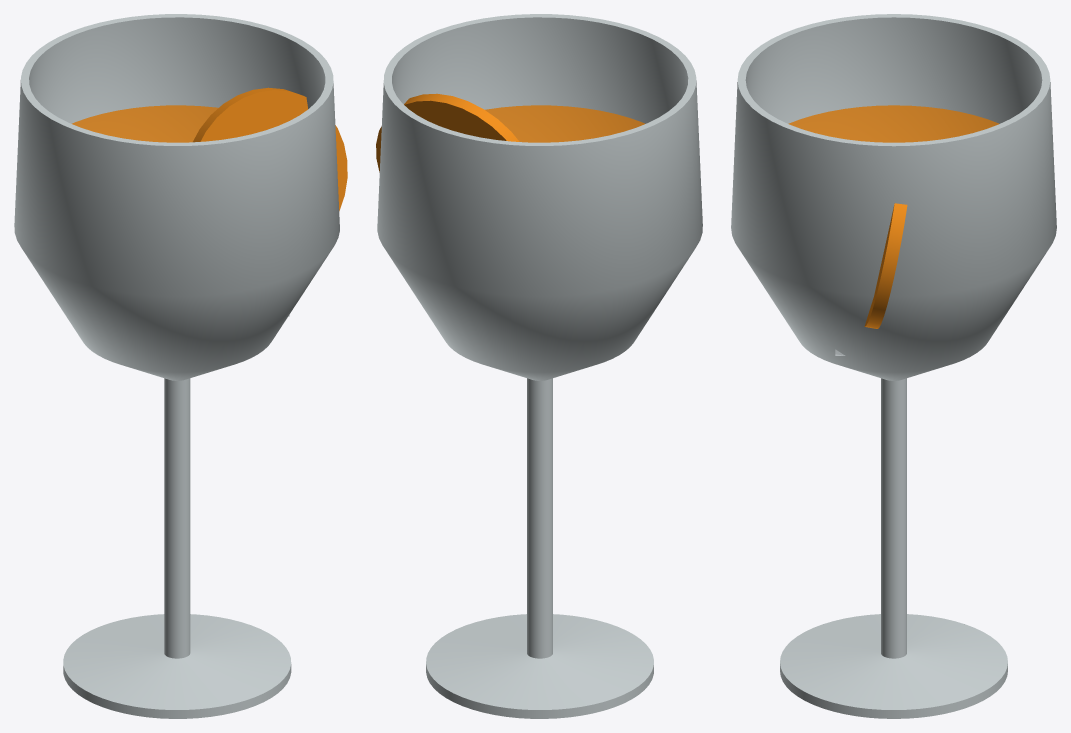
The model's file is taca-laranja.glb.
3 renders of one model, left to right at view 1: azimuth 30°, elevation 25°; view 2: azimuth 150°, elevation 25°; view 3: azimuth 270°, elevation 25°, orthographic.
Parts seen in each view (by area): view 1: taca-laranja; view 2: taca-laranja; view 3: taca-laranja.
Boxes of the visible parts, x1=… form: taca-laranja: x1=14, y1=14, x2=347, y2=718; taca-laranja: x1=376, y1=14, x2=702, y2=718; taca-laranja: x1=731, y1=14, x2=1056, y2=718.
Bounding box in the file's own units: 0.108 × 0.2 × 0.1.
